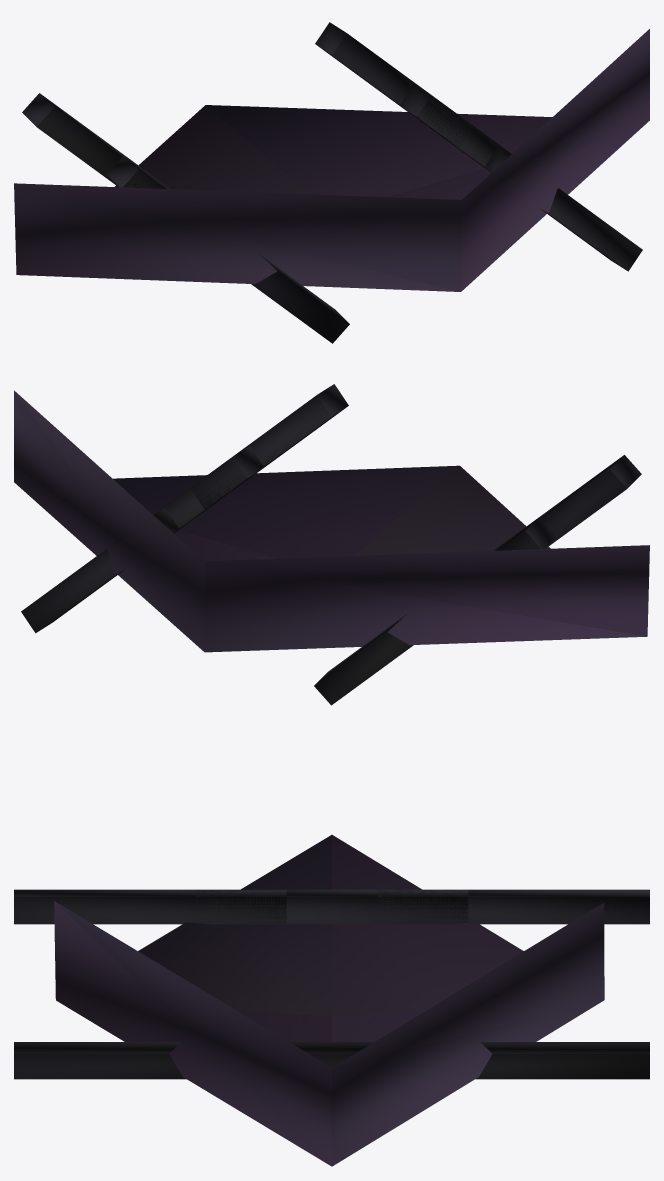
File: beetle_v1.glb
The picture shows the model from 3 angles, top to bottom: view 1: azimuth 30°, elevation 25°; view 2: azimuth 150°, elevation 25°; view 3: azimuth 270°, elevation 25°; orthographic projection. The views are drawn at different scales.
Bounding box in the file's own units: 1 × 0.2734 × 0.8062.
